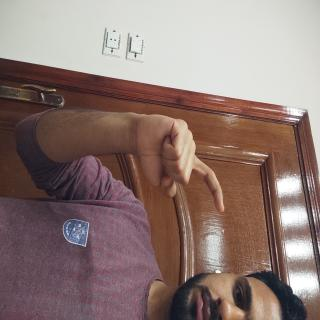RAA: (80, 120, 165, 260)
